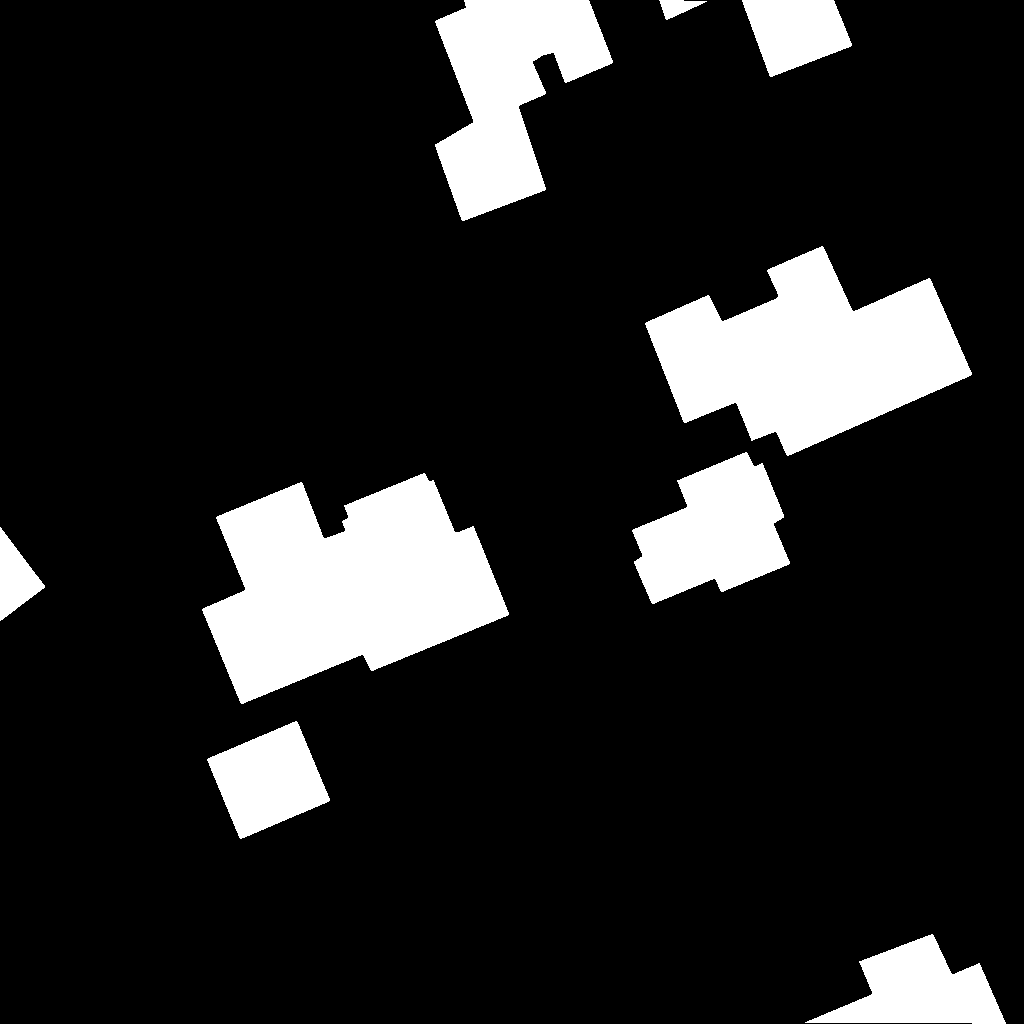building: (202, 473, 510, 705), (645, 246, 973, 457), (435, 0, 614, 222), (632, 452, 791, 605), (804, 934, 1007, 1024), (659, 0, 853, 78), (207, 721, 331, 840), (0, 527, 46, 622)
